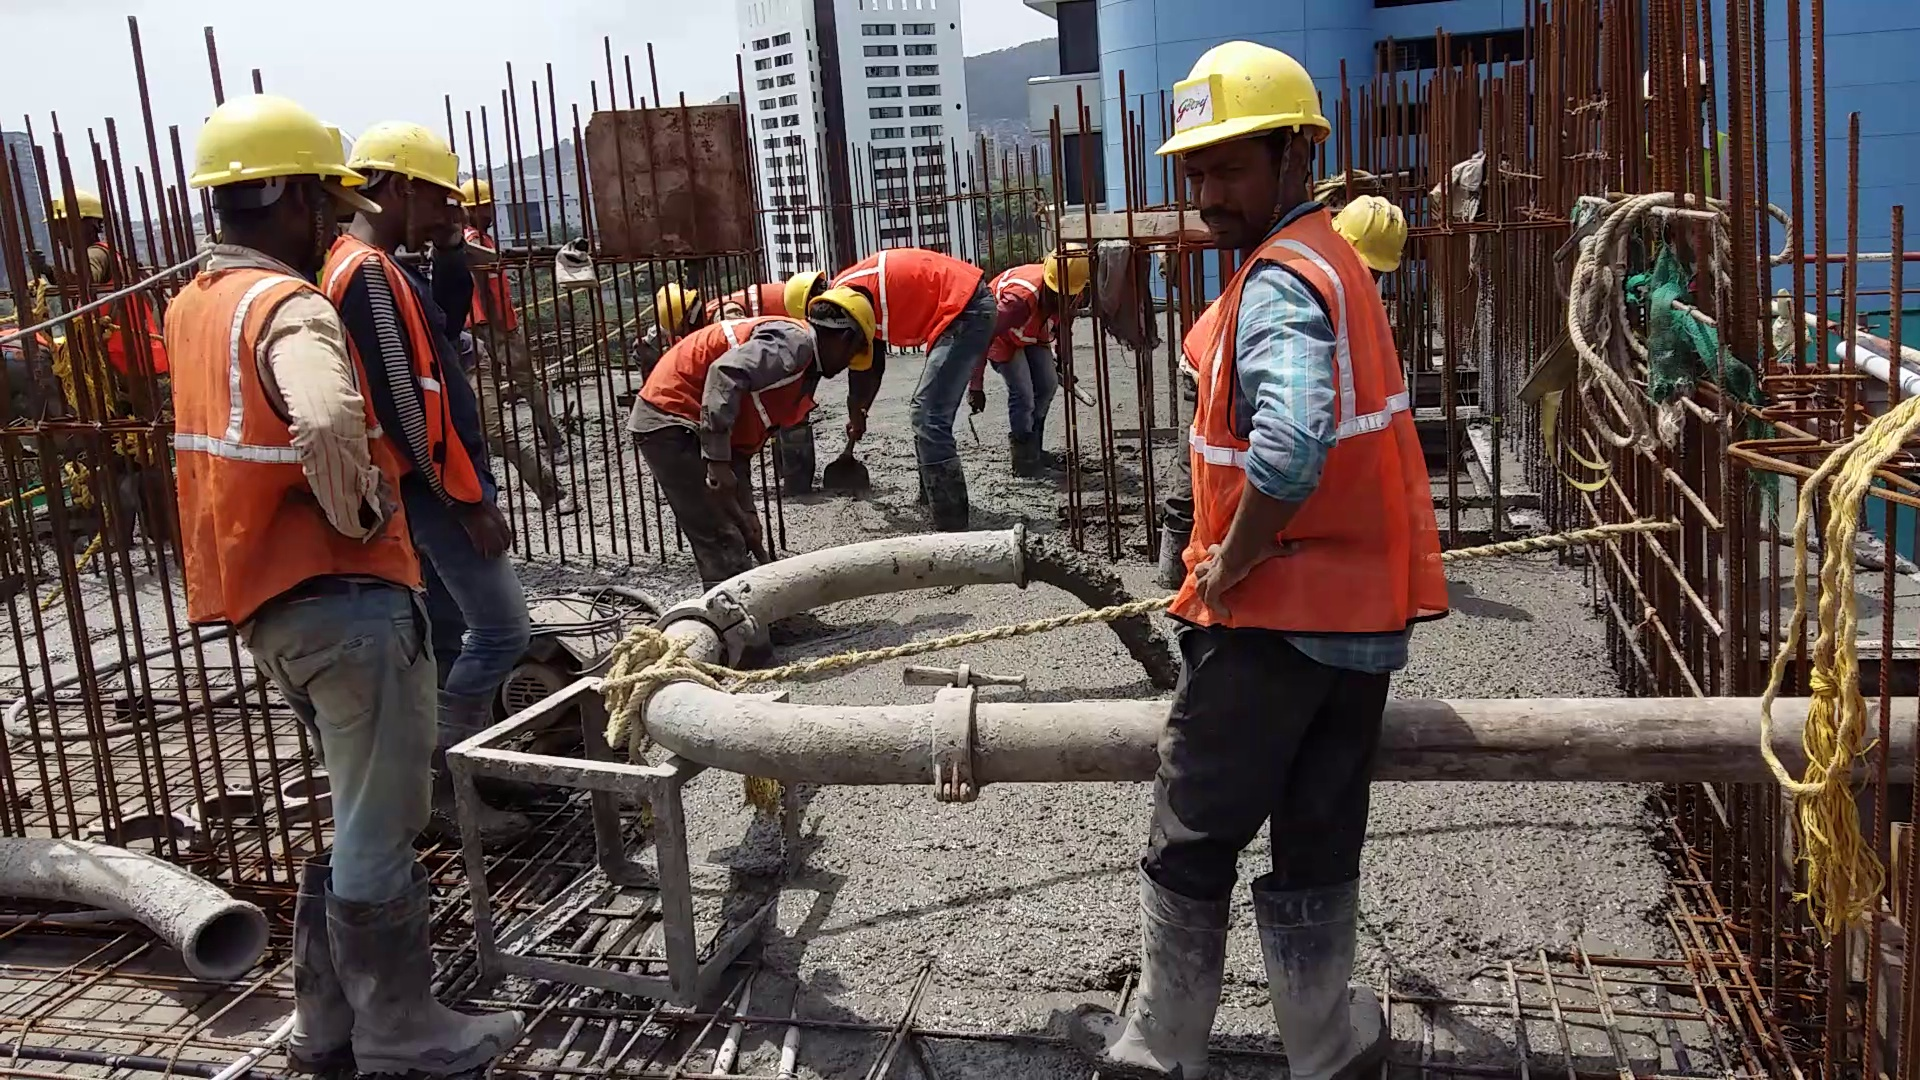SAFE: (1172, 40, 1404, 647), (164, 98, 351, 622), (646, 291, 870, 451), (360, 131, 458, 491), (1000, 243, 1060, 363)
